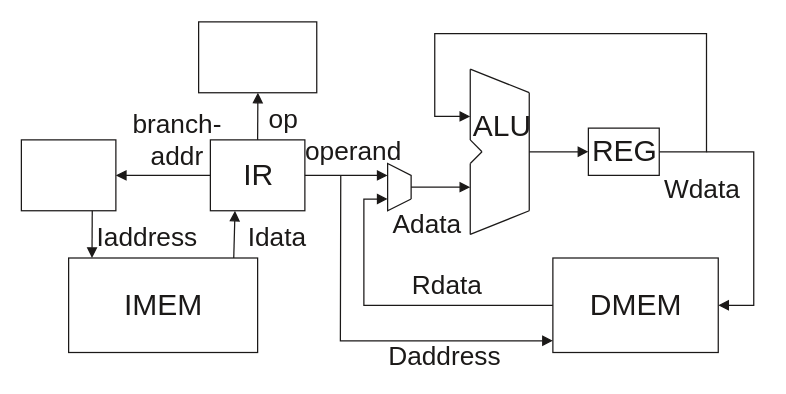
The diagram is 786 pixels wide and 394 high, and some of its shapes have lost their labels. Here are the shapes that lost their labels. From the top down, the centre of each, then its label:
At point (257, 57): "Decoder".
At point (68, 175): "PC".
